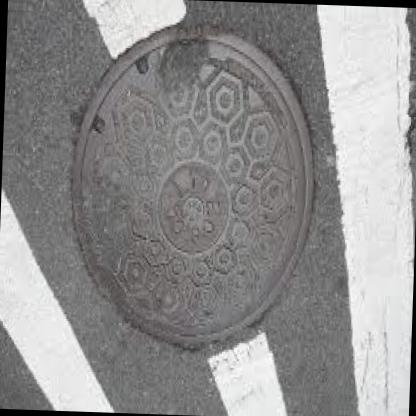manholes: (51, 8, 348, 370)
